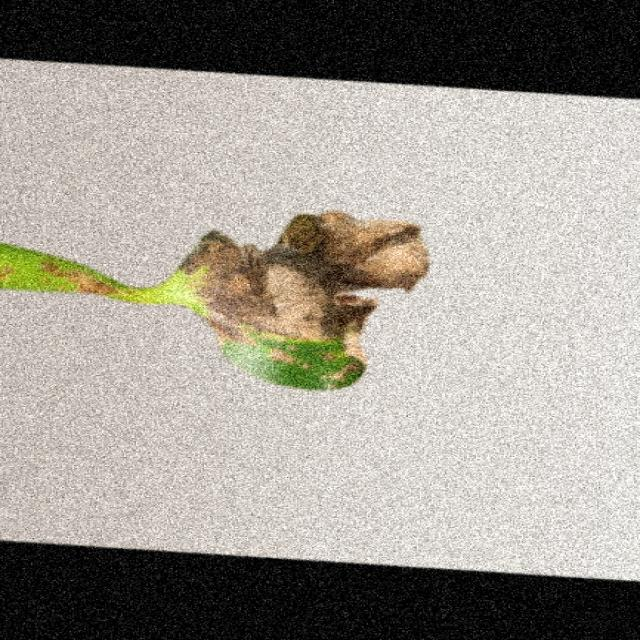daun berpenyakit karat: (2, 212, 430, 389)
